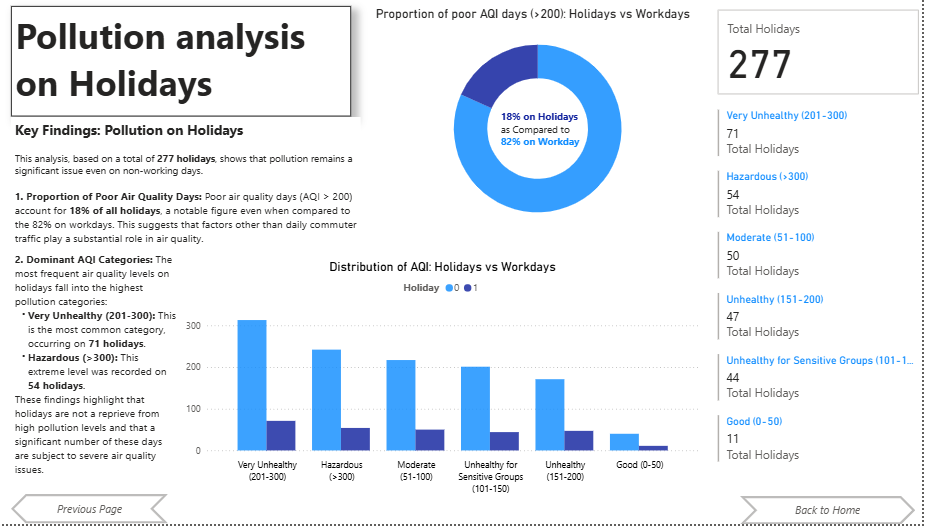

The page's visual inventory and layout, read from the dashboard file:
{"tool":"powerbi","page":{"name":"Page 3","canvas":[1280,720],"ordinal":2},"visuals":[{"type":"donutChart","title":"Proportion of poor AQI days (>200): Holidays vs Workdays","fields":{"Y":["AQI Category.Poor Days"],"Category":["final_dataset.Holidays_Count"]},"box":[532.6,16.5,450.1,313.8],"z":0},{"type":"clusteredColumnChart","title":"Distribution of AQI: Holidays vs Workdays","fields":{"Category":["final_dataset.AQI Category"],"Y":["CountNonNull(final_dataset.AQI)"],"Series":["final_dataset.Holidays_Count"]},"box":[274.4,360,707.8,327.4],"z":1000},{"type":"multiRowCard","fields":{"Values":["Sum(final_dataset.Holidays_Count)","final_dataset.AQI Category"]},"box":[997.1,152.2,282.6,518.9],"z":2000},{"type":"cardVisual","fields":{"Data":["Sum(final_dataset.Holidays_Count)"]},"box":[996.5,16.5,283.5,125.2],"z":3000},{"type":"textbox","box":[42.7,16.5,462.5,150],"z":4000},{"type":"textbox","box":[701.9,152.8,125.2,82.6],"z":5000},{"type":"textbox","box":[42.7,166.5,474.8,178.9],"z":5001},{"type":"textbox","box":[42.7,345.5,231.2,326.2],"z":5002},{"type":"actionButton","box":[1032.3,681.3,238.1,38.5],"z":5003},{"type":"actionButton","box":[42.7,679.9,213.3,39.9],"z":5004}]}

Visuals, with their boxes in screenshot pixels (x1, y1, x2, y2), scaled from the page's 1280x720 canvas onto the 933x530 screenshot:
"Proportion of poor AQI days (>200): Holidays vs Workdays" donutChart: l=388, t=12, r=716, b=243
"Distribution of AQI: Holidays vs Workdays" clusteredColumnChart: l=200, t=265, r=716, b=506
multiRowCard - Sum(final_dataset.Holidays_Count) x final_dataset.AQI Category: l=727, t=112, r=932, b=494
cardVisual - Sum(final_dataset.Holidays_Count): l=726, t=12, r=932, b=104
textbox: l=31, t=12, r=368, b=123
textbox: l=512, t=112, r=603, b=173
textbox: l=31, t=123, r=377, b=254
textbox: l=31, t=254, r=200, b=494
actionButton: l=752, t=502, r=926, b=529
actionButton: l=31, t=500, r=187, b=529
